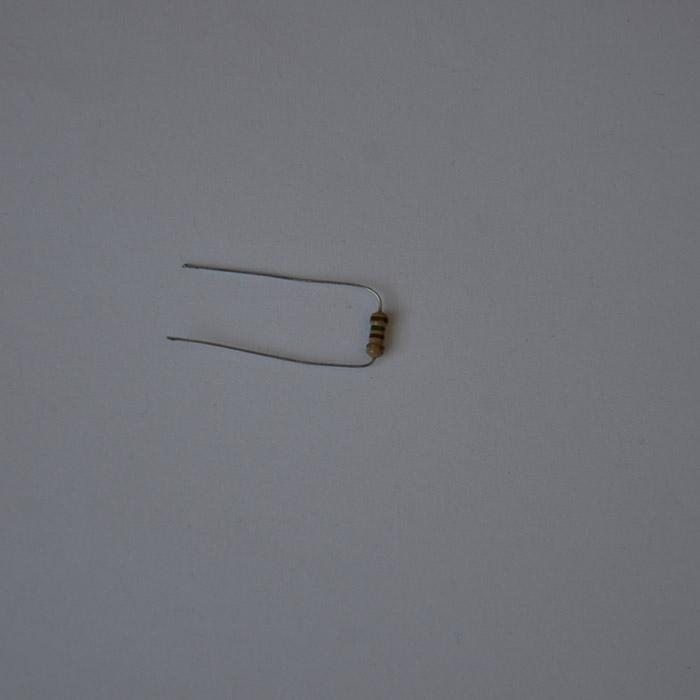resistor: (365, 310, 387, 357)
